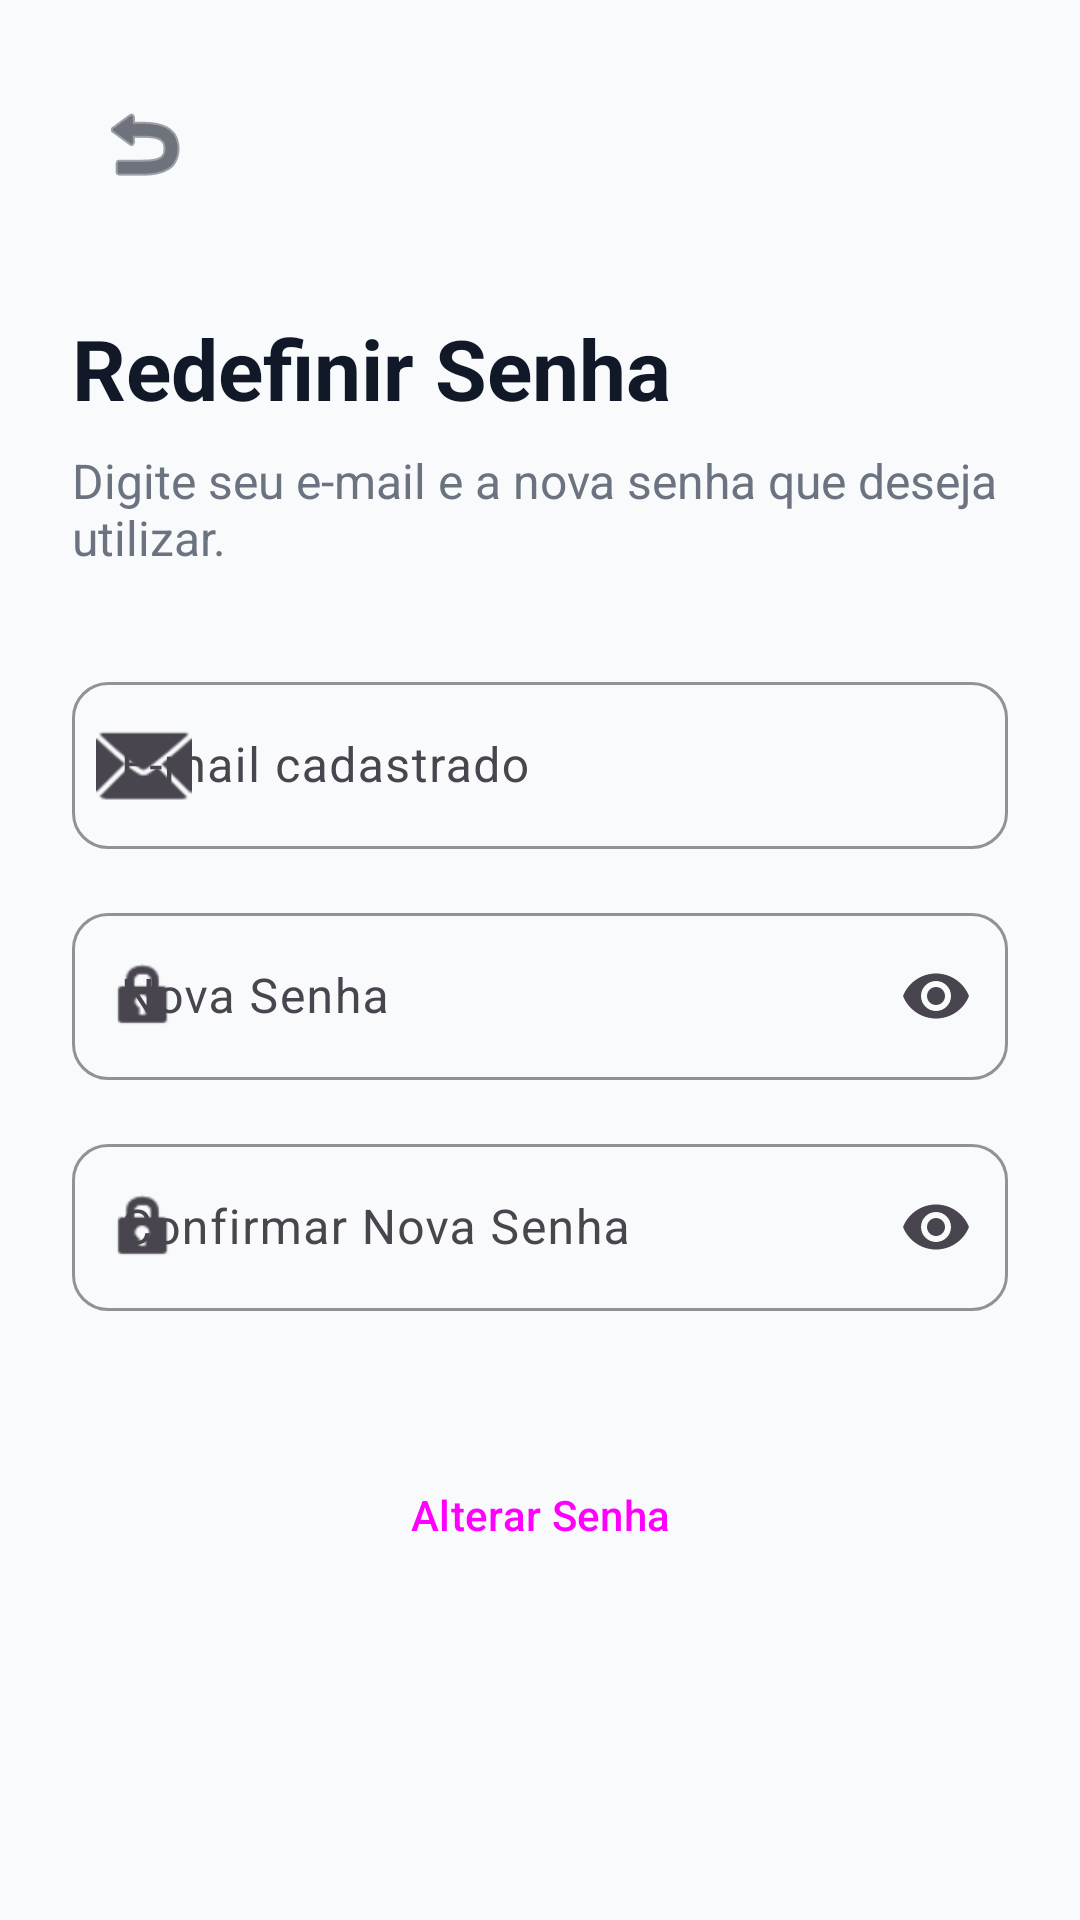

Icon bounding boxes for this 1080px x 1920px phone screenshot, format (x1, y1, x2, y2):
revert: (111, 113, 180, 176)
